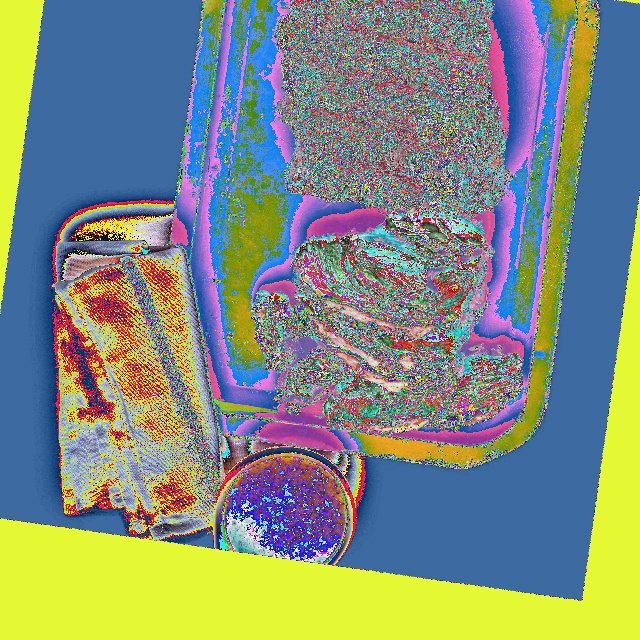background: (251, 0, 523, 436), (126, 107, 348, 564)
